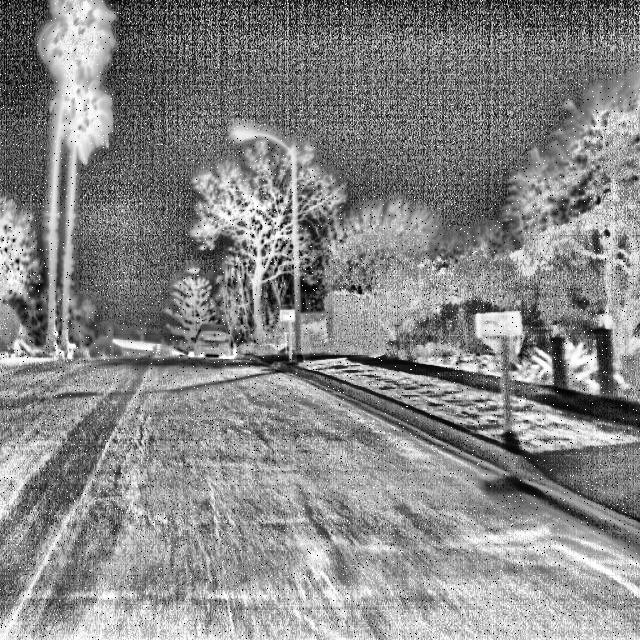car: (190, 314, 247, 368)
light: (234, 115, 300, 178)
mail box: (471, 301, 532, 382), (273, 296, 303, 358)
